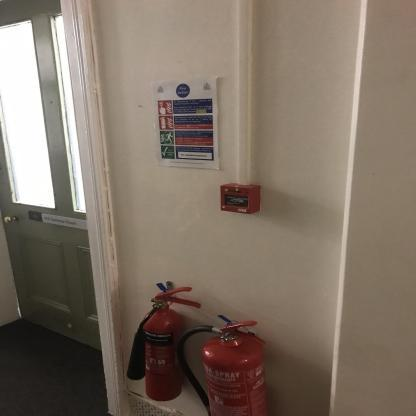Fire Extinguisher: (120, 256, 291, 416)
